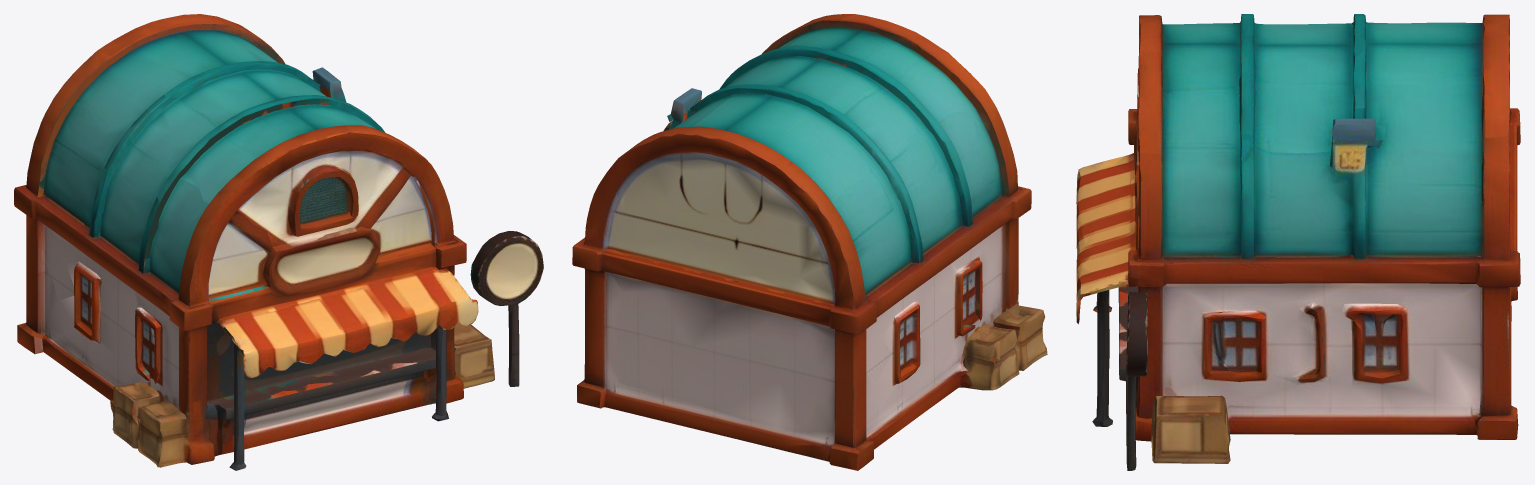
The model's file is exchange.glb.
3 views of the same model, side by side, from view 1: azimuth 30°, elevation 25°; view 2: azimuth 150°, elevation 25°; view 3: azimuth 270°, elevation 25° (orthographic). The views are drawn at different scales.
Parts seen in each view (by area): view 1: exchange; view 2: exchange; view 3: exchange.
Part boxes in pixels (left/top/right/bottom): exchange: left=14, top=14, right=543, bottom=470; exchange: left=572, top=14, right=1047, bottom=470; exchange: left=1076, top=14, right=1520, bottom=470.
Size of the model in its own units: 1 by 0.7416 by 0.8871.
Materials: 1 (1 with a texture image).
